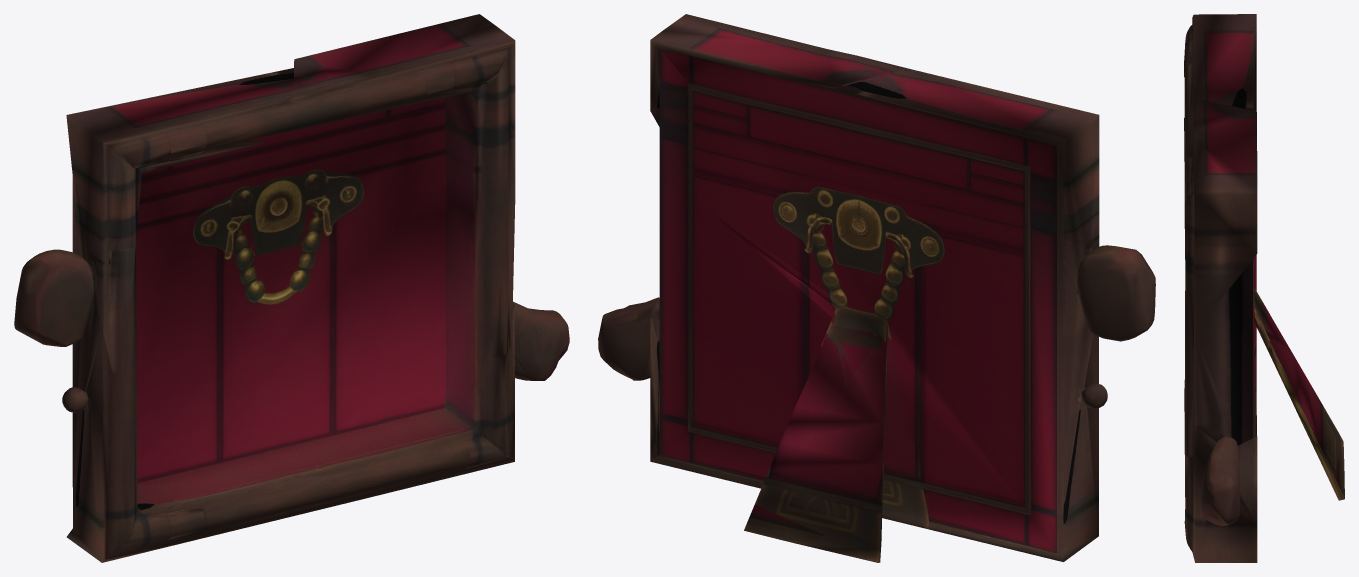
File: 13_wall_frame.fbx
3 views of the same model, side by side, from view 1: azimuth 30°, elevation 25°; view 2: azimuth 150°, elevation 25°; view 3: azimuth 270°, elevation 25° (orthographic). The views are drawn at different scales.
Parts seen in each view (by area): view 1: Mesh1.0; view 2: Mesh1.0; view 3: Mesh1.0.
Part boxes in pixels (<box>): Mesh1.0: <box>14,14,569,562</box>; Mesh1.0: <box>598,14,1155,562</box>; Mesh1.0: <box>1184,14,1344,562</box>.
Size of the model in its own units: 190 by 139 by 54.54.
Materials: 1 (1 with a texture image).
